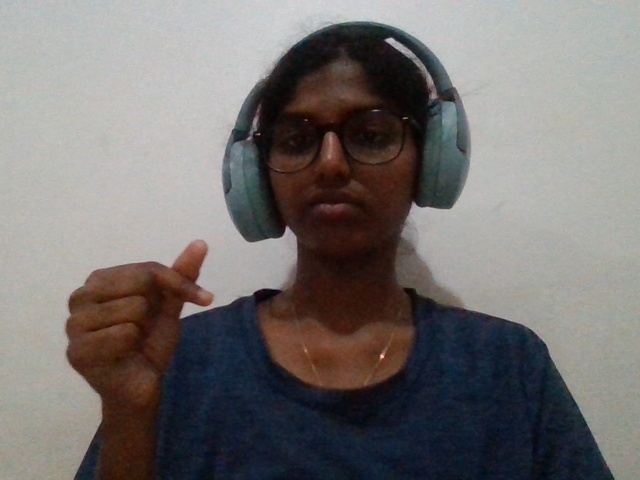G: (49, 226, 255, 478)
